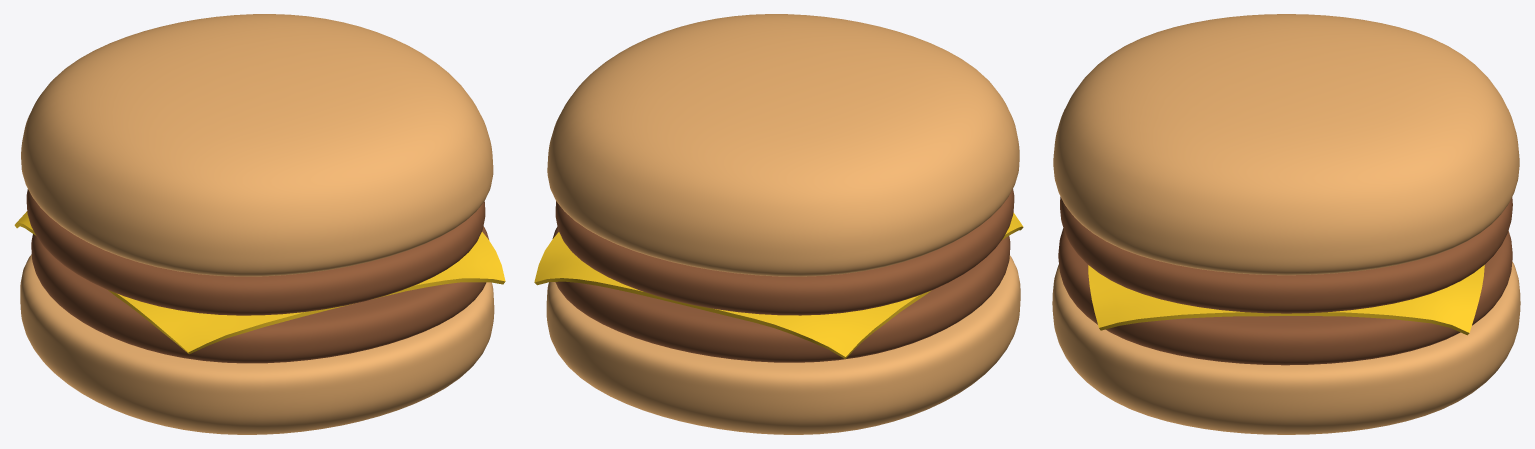
File: Burger.gltf
3 views of the same model, side by side, from view 1: azimuth 30°, elevation 25°; view 2: azimuth 150°, elevation 25°; view 3: azimuth 270°, elevation 25° (orthographic).
Visible parts, largest first — view 1: Bun-top, Bun-bottom, Chop-top, Chop-bottom, Cheese; view 2: Bun-top, Bun-bottom, Chop-top, Chop-bottom, Cheese; view 3: Bun-top, Bun-bottom, Chop-top, Chop-bottom, Cheese.
Boxes of the visible parts, x1=… form: Bun-top: x1=21, y1=14, x2=493, y2=276; Bun-bottom: x1=20, y1=254, x2=494, y2=434; Chop-top: x1=26, y1=189, x2=485, y2=315; Chop-bottom: x1=31, y1=226, x2=488, y2=363; Cheese: x1=14, y1=211, x2=505, y2=354; Bun-top: x1=547, y1=14, x2=1019, y2=276; Bun-bottom: x1=546, y1=255, x2=1020, y2=434; Chop-top: x1=555, y1=189, x2=1014, y2=315; Chop-bottom: x1=552, y1=226, x2=1010, y2=362; Cheese: x1=534, y1=212, x2=1023, y2=358; Bun-top: x1=1053, y1=14, x2=1519, y2=275; Bun-bottom: x1=1052, y1=261, x2=1520, y2=434; Chop-top: x1=1060, y1=196, x2=1512, y2=313; Chop-bottom: x1=1058, y1=228, x2=1512, y2=365; Cheese: x1=1088, y1=265, x2=1484, y2=335.
Bounding box in the file's own units: 18.29 × 12.34 × 18.29.
